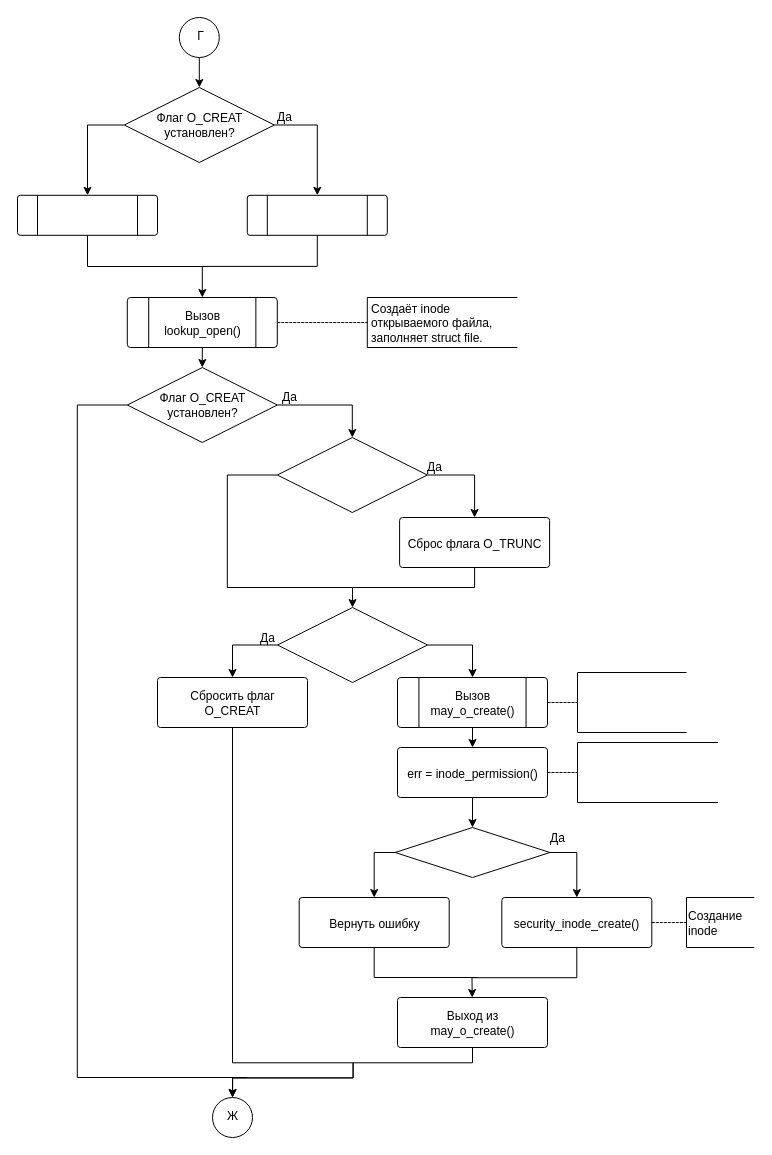
Image size: 772x1155. Some labels were removed from this diagram. The box of each missing label's shape, as (x1, y1, x2, y2) in pixels:
err == 0?: (394, 826, 550, 878)
inode файла существует?: (276, 606, 428, 682)
inode_lock(): (246, 194, 387, 235)
inode_lock_shared(): (16, 194, 158, 235)
Проверка возможности создания и создание файла: (576, 672, 686, 732)
Проверка прав доступа директории, в которой создаётся файл: (576, 742, 718, 802)
Флаг O_EXCL установлен?: (276, 436, 427, 512)
